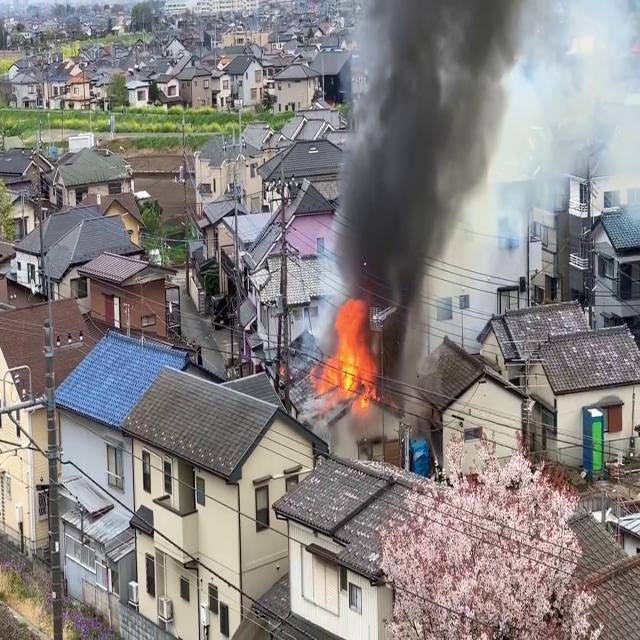Fire: (313, 297, 380, 407)
Smoke: (323, 1, 523, 362)
